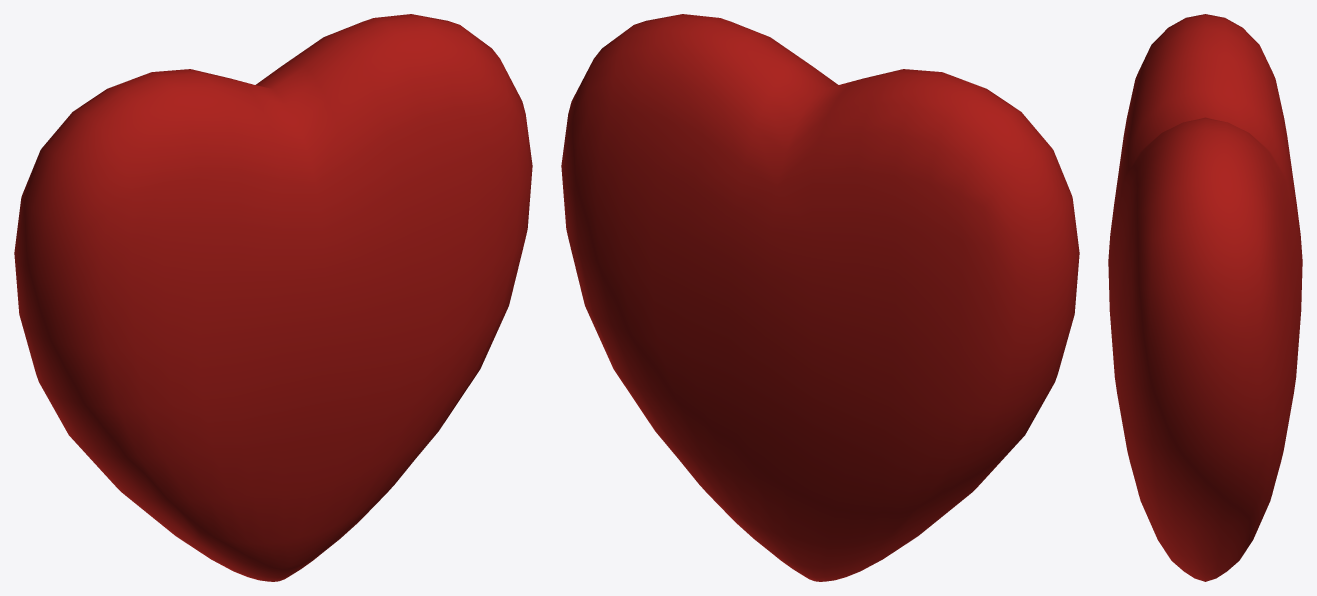
The model's file is Heart2.fbx.
3 renders of one model, left to right at view 1: azimuth 30°, elevation 25°; view 2: azimuth 150°, elevation 25°; view 3: azimuth 270°, elevation 25°, orthographic. The views are drawn at different scales.
Visible parts, largest first — view 1: Cube; view 2: Cube; view 3: Cube.
Part boxes in pixels (box(x1,y1,x2,y2)): Cube: box(14, 14, 532, 581); Cube: box(561, 14, 1079, 581); Cube: box(1108, 14, 1302, 581).
Bounding box in the file's own units: 52.09 × 53.19 × 18.76.
